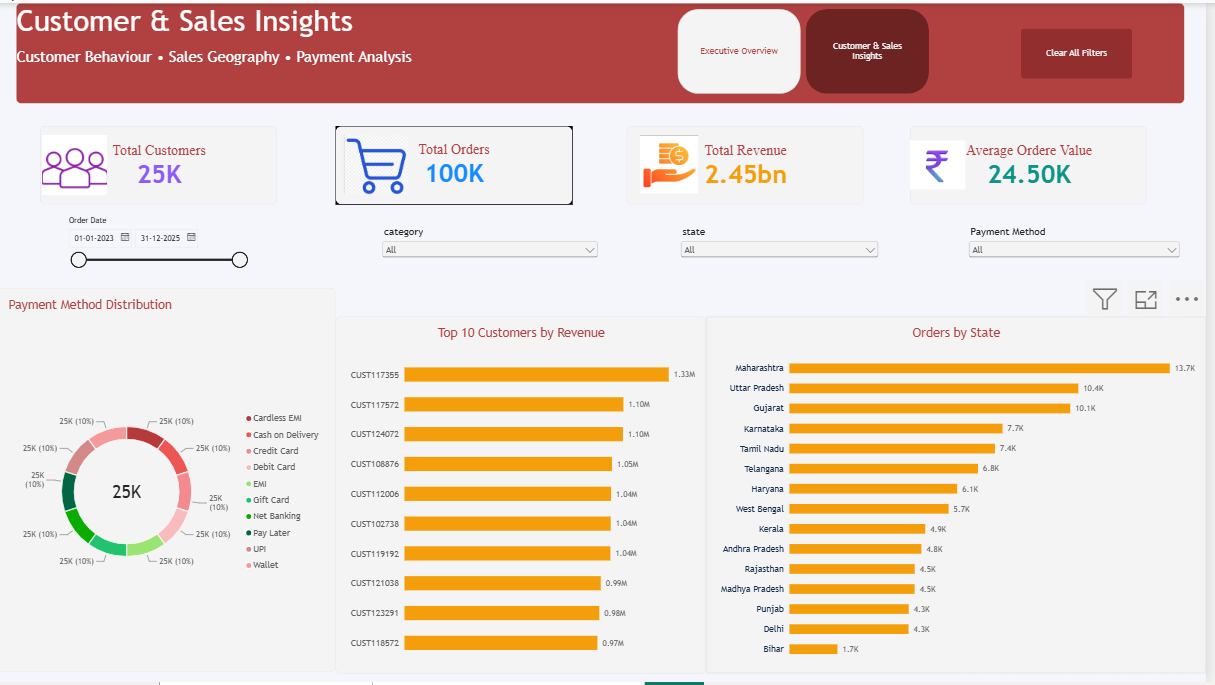

What the dashboard file says about the page in this screenshot:
{"tool":"powerbi","page":{"name":"Customer & Sales Insights","canvas":[1920,1080],"ordinal":1},"visuals":[{"type":"textbox","title":"Customer & Sales Insights","box":[28.6,0,1858.6,159.9],"z":0},{"type":"pageNavigator","box":[1080,10,400.8,136],"z":1000},{"type":"clusteredBarChart","title":"Orders by State","fields":{"Category":["customers.state"],"Y":["Sum(customers.total_orders)"]},"box":[1126.2,498.7,795,567.5],"z":2000},{"type":"donutChart","title":"Payment Method Distribution","fields":{"Category":["payments.payment_method"],"Y":["CountNonNull(customers.preferred_payment_method)"]},"box":[0,453.3,536.8,610.8],"z":3000},{"type":"clusteredBarChart","title":"Top 10 Customers by  Revenue","fields":{"Category":["customers.customer_id"],"Y":["KPI.Total Revenue"]},"box":[536.8,498.7,589.3,567.8],"z":4000},{"type":"slicer","fields":{"Values":["orders.order_date"]},"box":[105,338.8,295.9,95.4],"z":5000},{"type":"slicer","fields":{"Values":["customers.state"]},"box":[1080.8,353.1,324.5,88.3],"z":6000},{"type":"slicer","fields":{"Values":["payments.payment_method"]},"box":[1538.9,353.1,346,100.2],"z":7000},{"type":"slicer","fields":{"Values":["products.category"]},"box":[606,353.1,353.1,114.5],"z":8000},{"type":"cardVisual","fields":{"Data":["KPI.Total Customers"]},"box":[66.8,195.6,377,125],"z":9000},{"type":"cardVisual","fields":{"Data":["KPI.Total Orders"]},"box":[536.8,195.6,377,125],"z":10000},{"type":"cardVisual","fields":{"Data":["KPI.Total Revenue"]},"box":[999.7,195.6,377,125],"z":11000},{"type":"cardVisual","fields":{"Data":["KPI.Average Ordere Value"]},"box":[1450.6,195.6,377,125],"z":12000},{"type":"image","box":[536.8,210,128.8,95.4],"z":13000},{"type":"image","box":[66.8,210,109.8,95.4],"z":14000},{"type":"image","box":[1009.2,210,116.9,93.1],"z":15000},{"type":"image","box":[1450.6,210,88.3,95.4],"z":16000},{"type":"actionButton","box":[1626.7,40,176.7,80],"z":17000}]}

Visuals, with their boxes in screenshot pixels (x1, y1, x2, y2), scaled from the page's 1920x1080 canvas onto the 1215x685 screenshot:
"Customer & Sales Insights" textbox: <region>18, 0, 1194, 101</region>
pageNavigator: <region>683, 6, 937, 93</region>
"Orders by State" clusteredBarChart: <region>713, 316, 1214, 676</region>
"Payment Method Distribution" donutChart: <region>0, 288, 340, 675</region>
"Top 10 Customers by  Revenue" clusteredBarChart: <region>340, 316, 713, 676</region>
slicer - orders.order_date: <region>66, 215, 254, 275</region>
slicer - customers.state: <region>684, 224, 889, 280</region>
slicer - payments.payment_method: <region>974, 224, 1193, 288</region>
slicer - products.category: <region>383, 224, 607, 297</region>
cardVisual - KPI.Total Customers: <region>42, 124, 281, 203</region>
cardVisual - KPI.Total Orders: <region>340, 124, 578, 203</region>
cardVisual - KPI.Total Revenue: <region>633, 124, 871, 203</region>
cardVisual - KPI.Average Ordere Value: <region>918, 124, 1157, 203</region>
image: <region>340, 133, 421, 194</region>
image: <region>42, 133, 112, 194</region>
image: <region>639, 133, 713, 192</region>
image: <region>918, 133, 974, 194</region>
actionButton: <region>1029, 25, 1141, 76</region>
